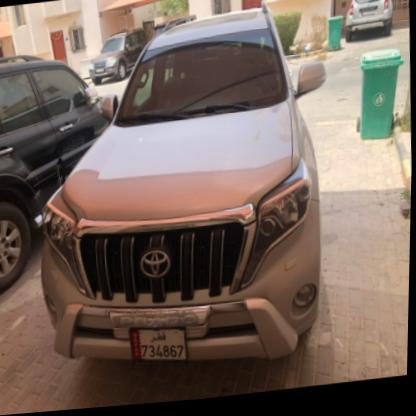np: (126, 319, 192, 373)
